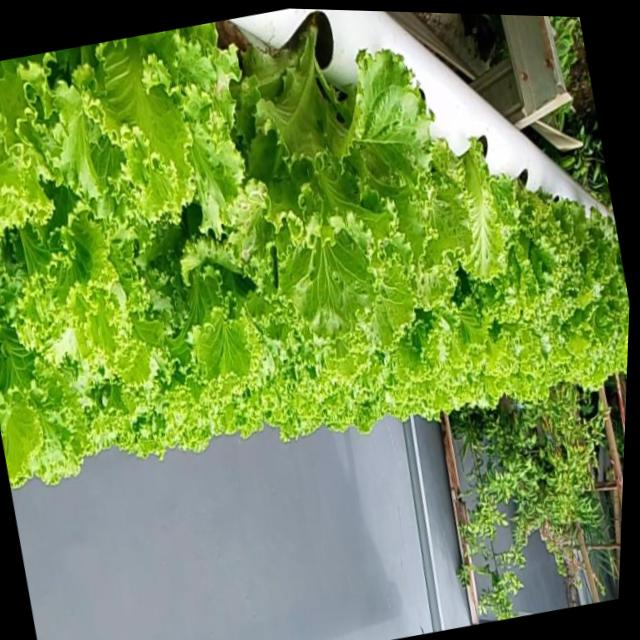Mature: (0, 11, 629, 485), (214, 12, 453, 337), (466, 167, 581, 324)
